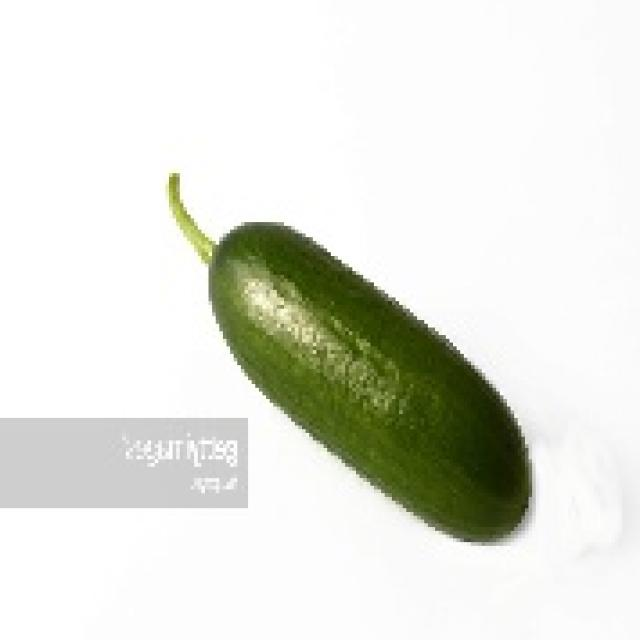cucumber: (205, 215, 550, 550)
